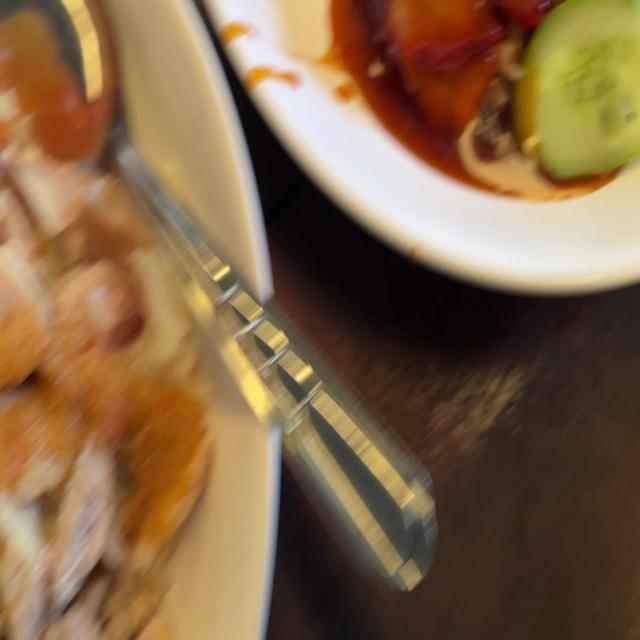boiled_chicken: (0, 121, 172, 632)
chicken_rice: (0, 20, 216, 640)
cucumber: (518, 0, 640, 171)
red_pork_and_crispy_pork: (347, 0, 640, 181)
